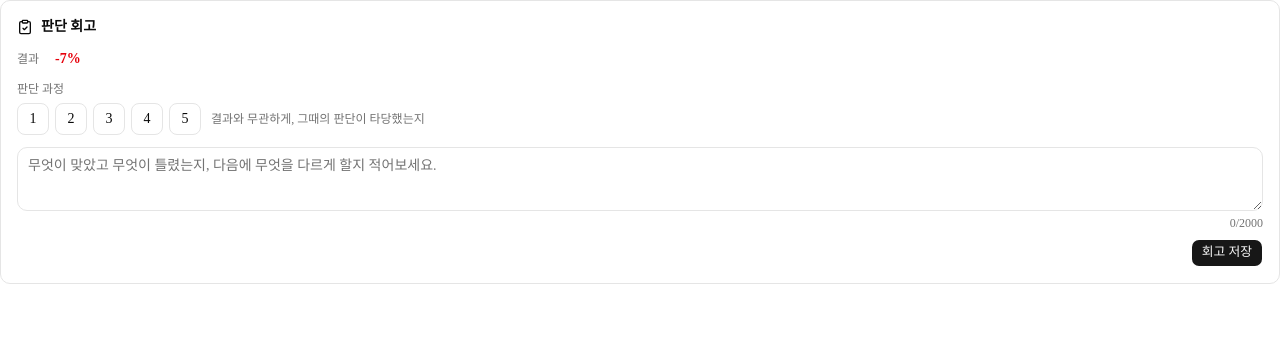
Scenario: JournalReviewCard › 과정이 좋았는데 잃은 매매는 운이 나빴던 것으로 표시한다
The image size is (1280, 337).
Click the button named "판단 과정 5". click: (185,119)
box: [169,103,201,135]
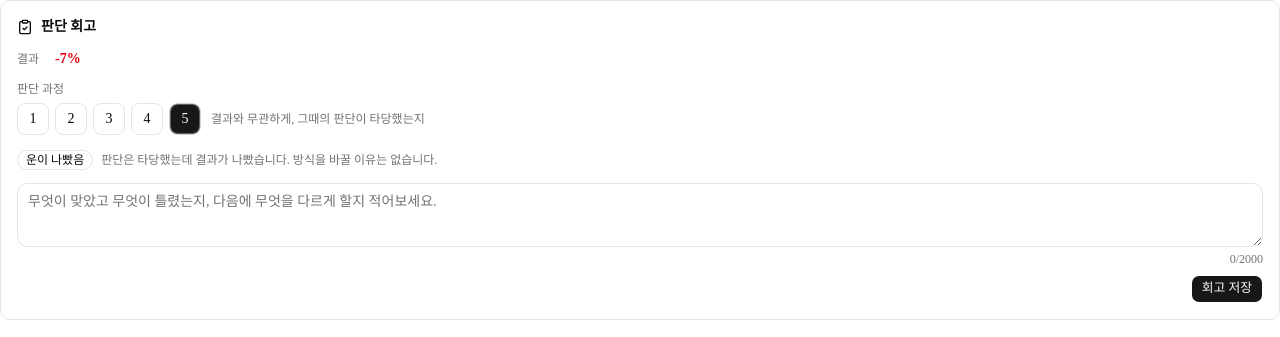
expect the text "운이 나빴음" is shown: met, box [17,150,93,170]
